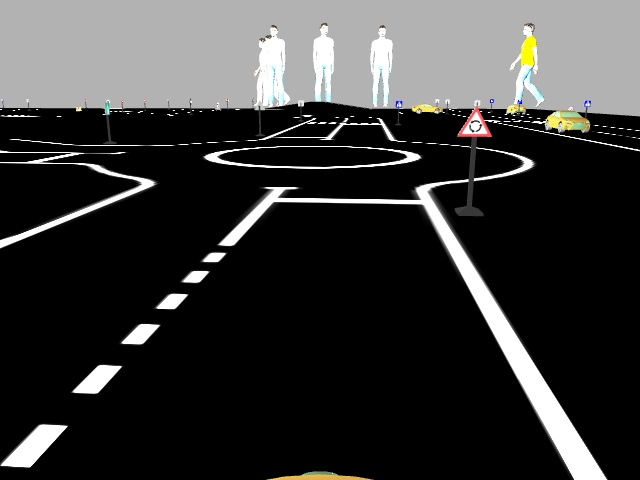Roundabout: (453, 107, 492, 139)
